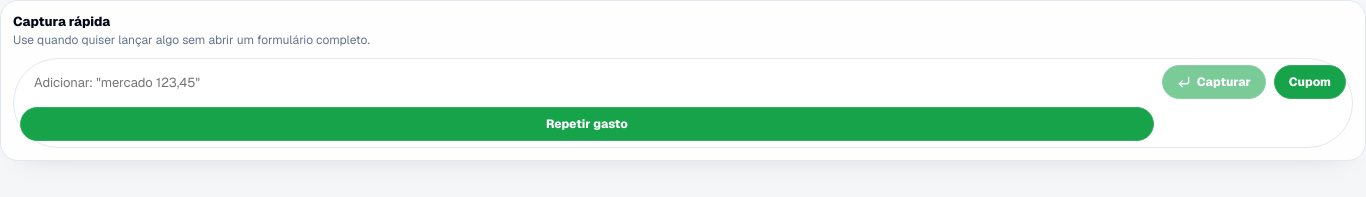
Test case: QuickCaptureBar › clears the current preview with Escape while focused
The width and height of the screenshot is (1366, 197).
In the field with placeholder "Adicionar: \"mercado 123,45\"": [587, 82] box [20,65,1154,99], type "mercado 123"
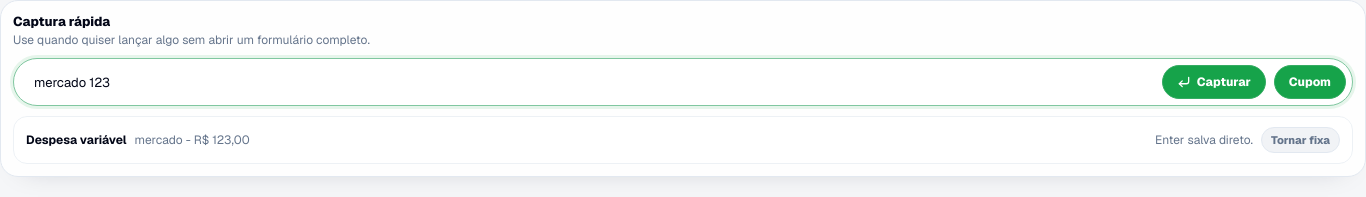
Now the text "Despesa variável" is shown, box [26,132,127,148]
Press Escape
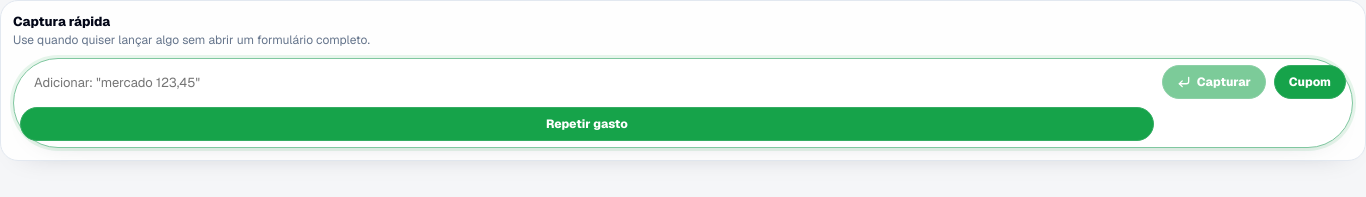
Now the text "Despesa variável" is gone
